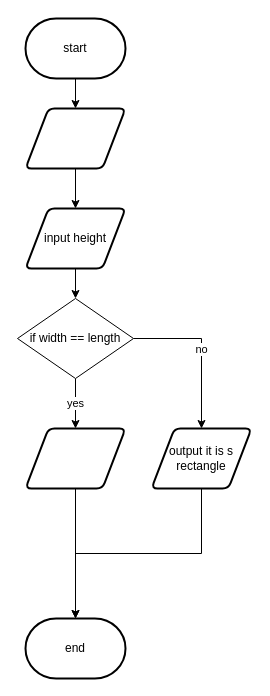
Image size: 270x696. Some labels were removed from this diagram. The shapes that lost their labels are listed below. From the top down, each one's centre as x and y in pixels, then its label:
At pixel 75 138: "input width".
At pixel 75 458: "output it is a square".
